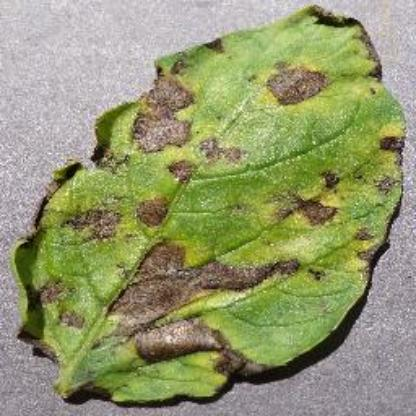Early-Blight: (13, 2, 407, 408)
